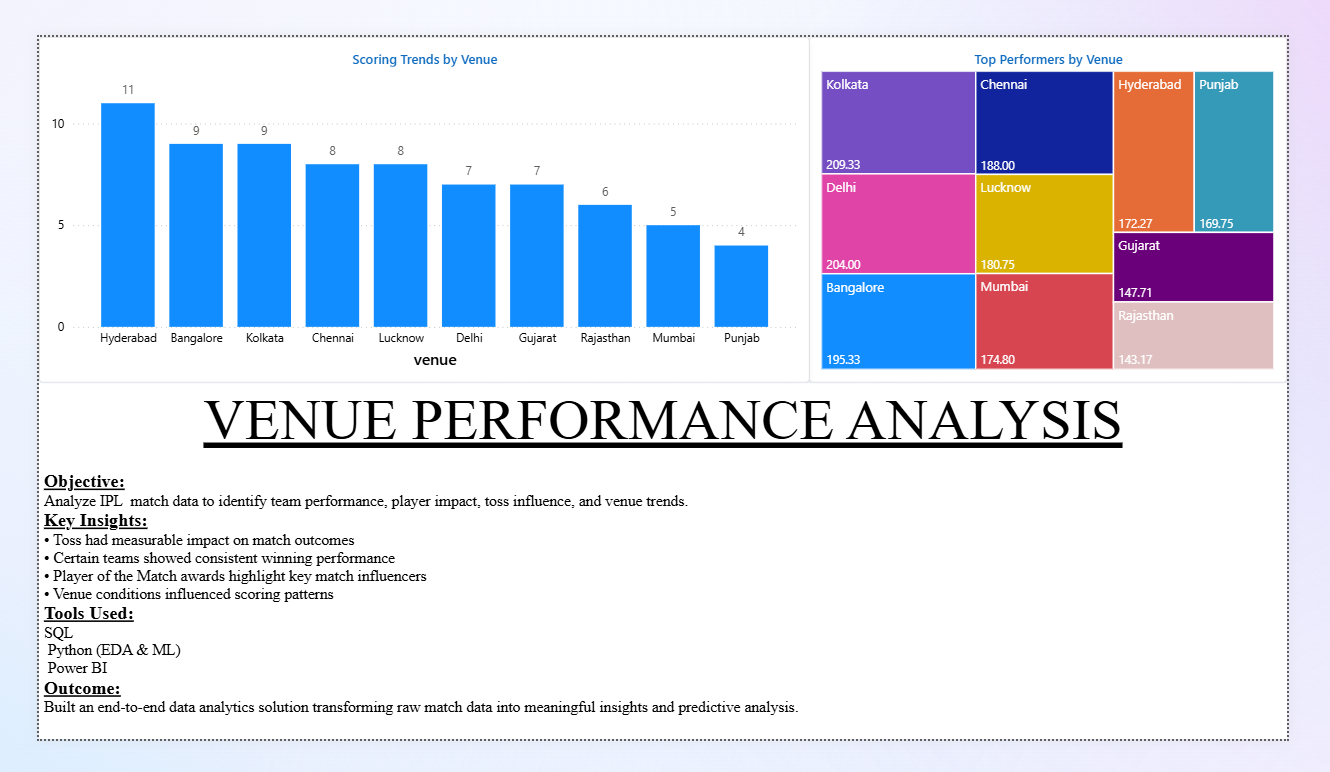

Layout of this report page (visuals, bound fields, positions):
{"tool":"powerbi","page":{"name":"Page 4","canvas":[1280,720],"ordinal":3},"visuals":[{"type":"treemap","title":"Top Performers by Venue","fields":{"Details":["ipl2024 (2).venue"],"Values":["ipl2024 (2).Avg First Score"]},"box":[790,0,490,354.3],"z":0},{"type":"columnChart","title":"Scoring Trends by Venue","fields":{"Category":["ipl2024 (2).venue"],"Y":["ipl2024 (2).most runs"]},"box":[0,0,790,354.3],"z":1000},{"type":"textbox","box":[0,355.3,1280,364.7],"z":2000}]}

Visuals, with their boxes on the page's 1280x720 design canvas (x1, y1, x2, y2). These are canvas units, not pixel positions in the 1330x772 screenshot, which may show the page scaled, cropped or inside an application window:
"Top Performers by Venue" treemap: x1=790 y1=0 x2=1280 y2=354
"Scoring Trends by Venue" columnChart: x1=0 y1=0 x2=790 y2=354
textbox: x1=0 y1=355 x2=1280 y2=720
